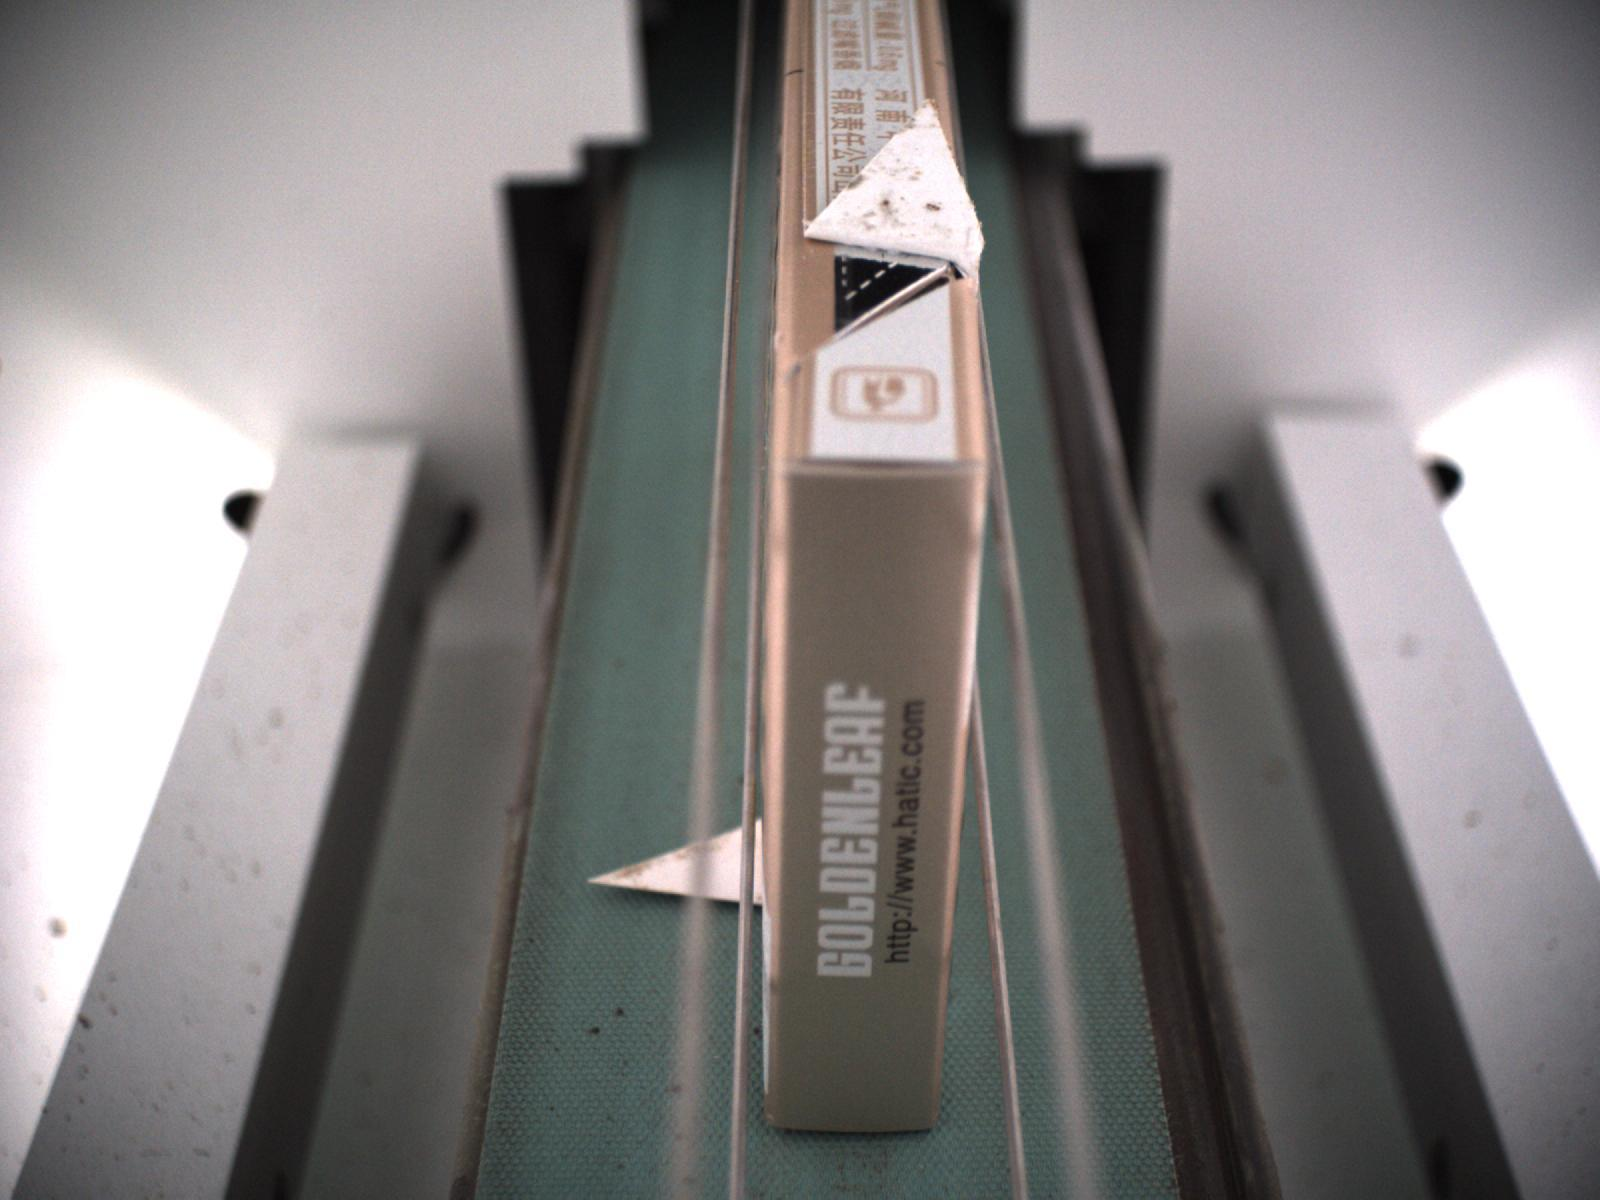outerFold_upper_2: (784, 95, 988, 376)
